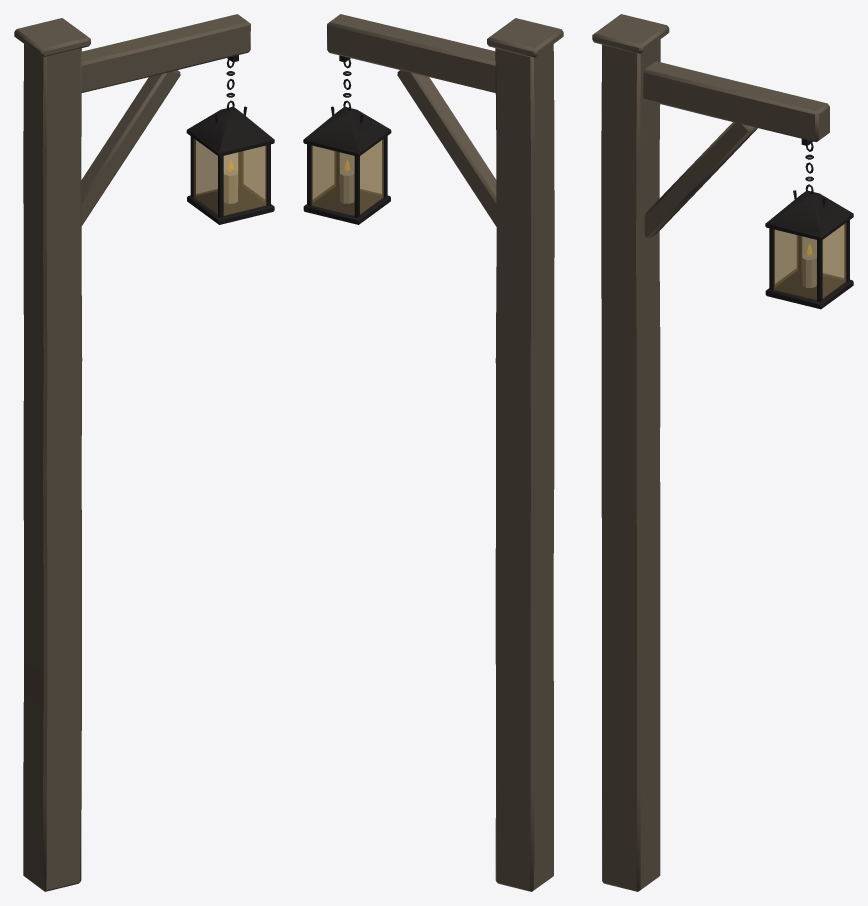
The model's file is laternenpfahl.glb.
3 views of the same model, side by side, from view 1: azimuth 30°, elevation 25°; view 2: azimuth 150°, elevation 25°; view 3: azimuth 330°, elevation 25° (orthographic).
Visible parts, largest first — view 1: laternenpfahl; view 2: laternenpfahl; view 3: laternenpfahl.
Boxes of the visible parts, <box> form: laternenpfahl: <box>14,14,274,891</box>; laternenpfahl: <box>303,14,563,891</box>; laternenpfahl: <box>592,14,853,891</box>.
Bounding box in the file's own units: 0.78 × 2.73 × 0.19.
